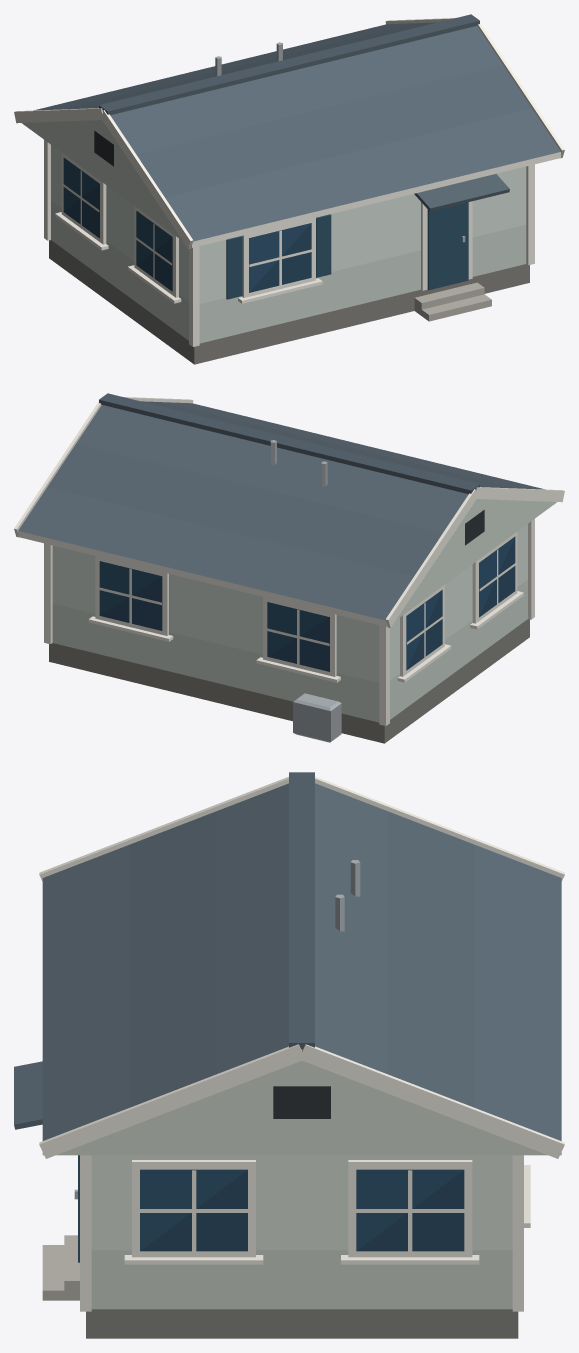
File: house_8x6.glb
3 views of the same model, one above another, from view 1: azimuth 30°, elevation 25°; view 2: azimuth 150°, elevation 25°; view 3: azimuth 270°, elevation 25° (orthographic). The views are drawn at different scales.
Parts seen in each view (by area): view 1: house; view 2: house; view 3: house.
Boxes of the visible parts, x1,y1,x2,y2 form: house: [14, 14, 564, 364]; house: [14, 393, 564, 743]; house: [14, 772, 564, 1338].
Size of the model in its own units: 8.93 by 4.94 by 7.64.
